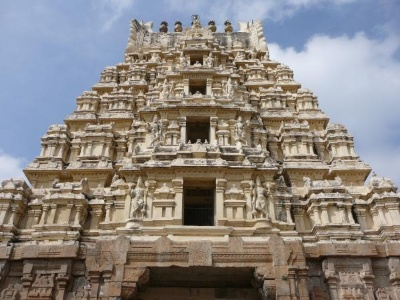gopura: (20, 19, 386, 254)
